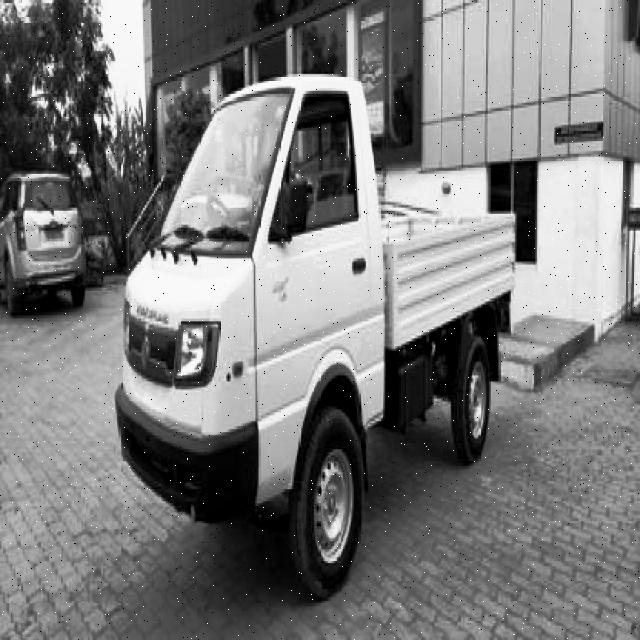LCV: (88, 97, 515, 555)
